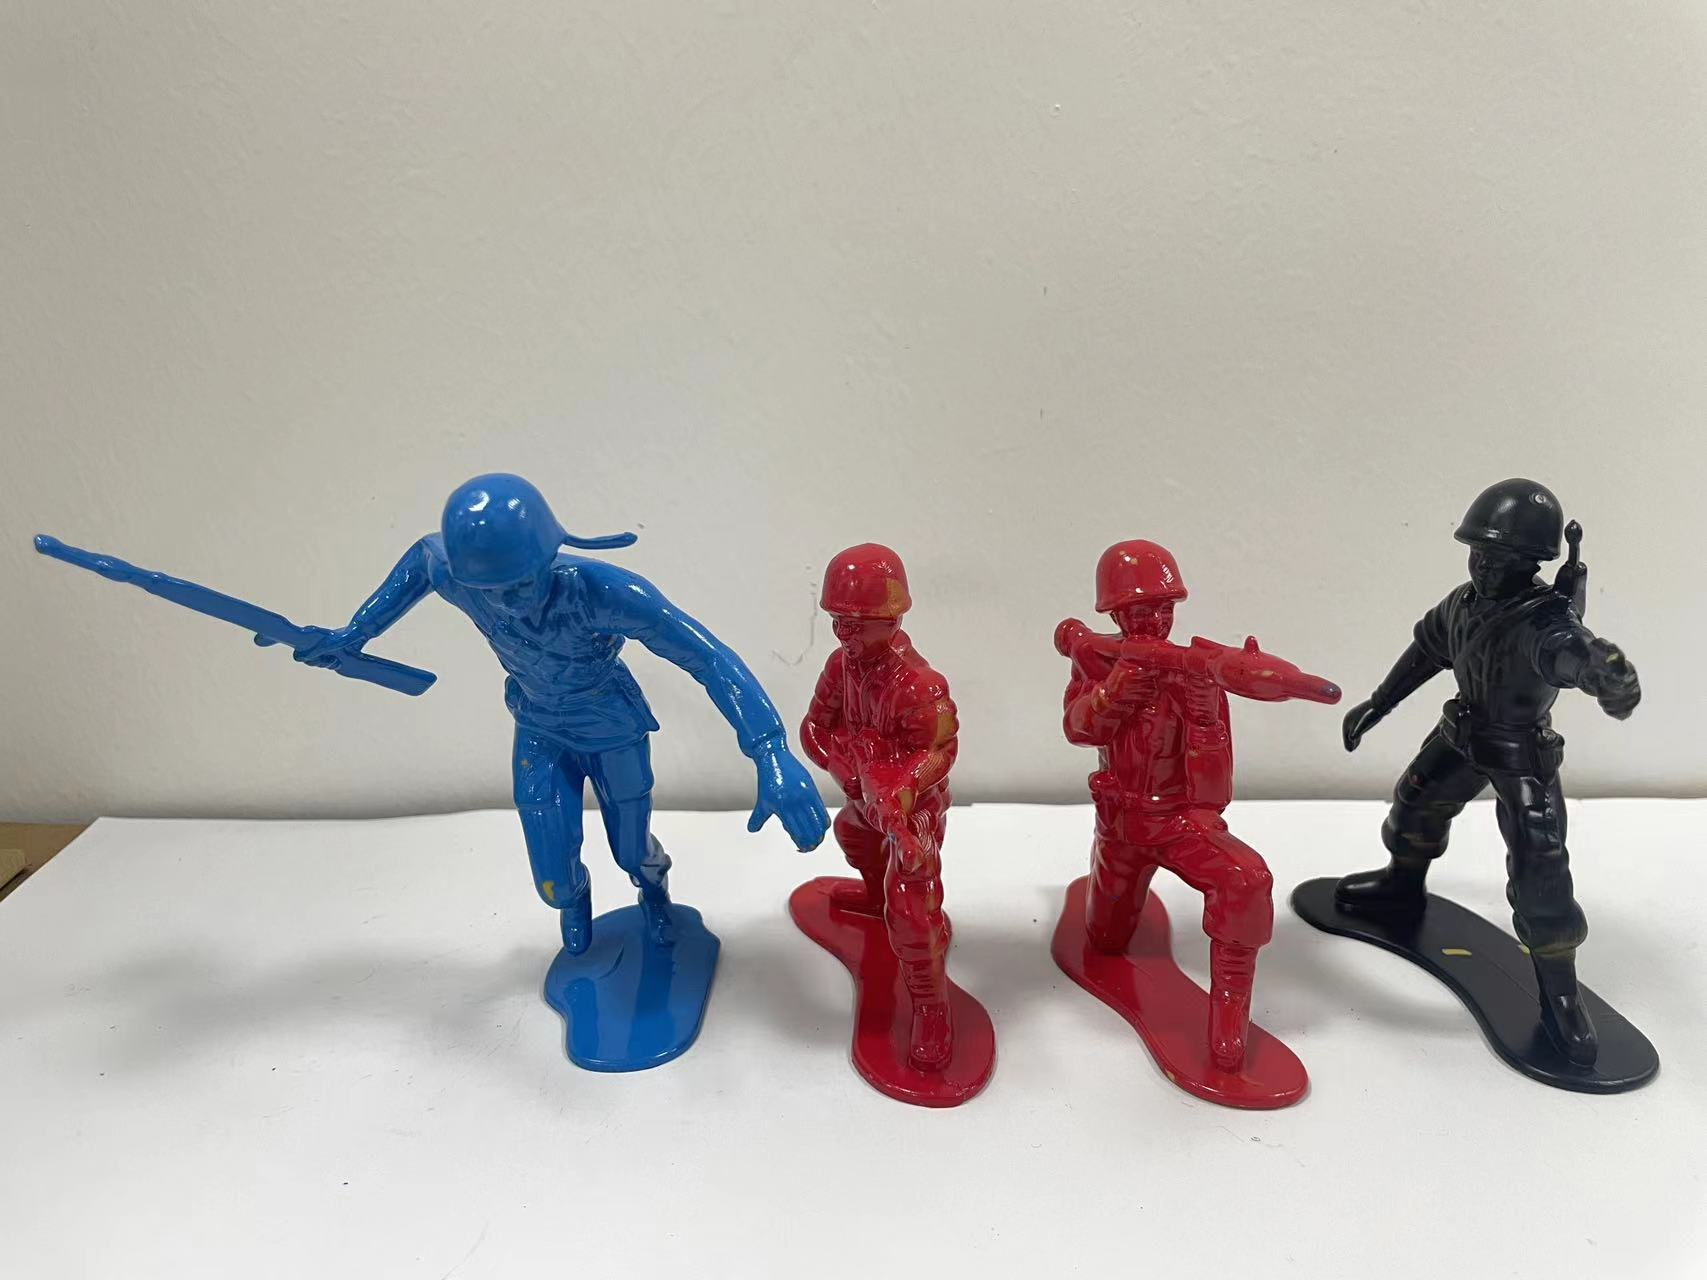black: (1310, 445, 1707, 1140)
blue: (31, 445, 784, 1119)
red: (1005, 499, 1317, 1137), (802, 507, 1013, 1158)
